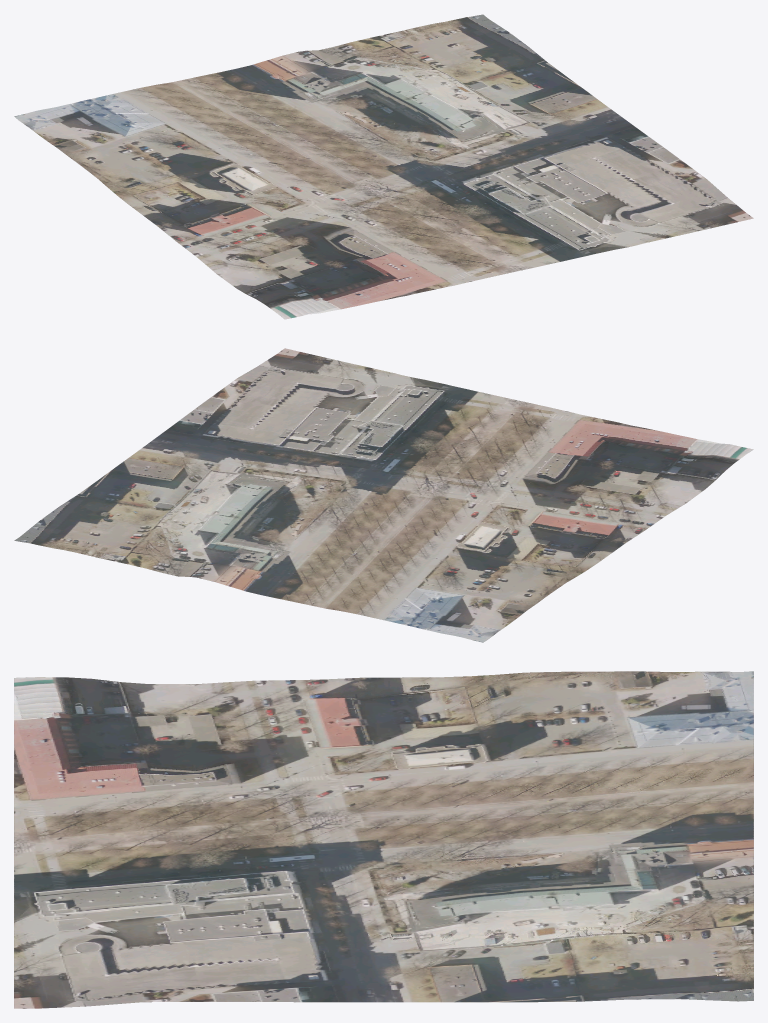
Rendered from CM_Terrain_24486773_6820408.fbx.
The picture shows the model from 3 angles, top to bottom: view 1: azimuth 30°, elevation 25°; view 2: azimuth 150°, elevation 25°; view 3: azimuth 270°, elevation 25°; orthographic projection. The views are drawn at different scales.
Parts seen in each view (by area): view 1: CM_Terrain_24486773_6820408_LOD0; view 2: CM_Terrain_24486773_6820408_LOD0; view 3: CM_Terrain_24486773_6820408_LOD0.
Part boxes in pixels (left/top/right/bottom): CM_Terrain_24486773_6820408_LOD0: left=14, top=14, right=753, bottom=319; CM_Terrain_24486773_6820408_LOD0: left=14, top=348, right=753, bottom=642; CM_Terrain_24486773_6820408_LOD0: left=14, top=671, right=753, bottom=1008.
Size of what is drawn, in the model's own units: 205 by 7.75 by 205.
